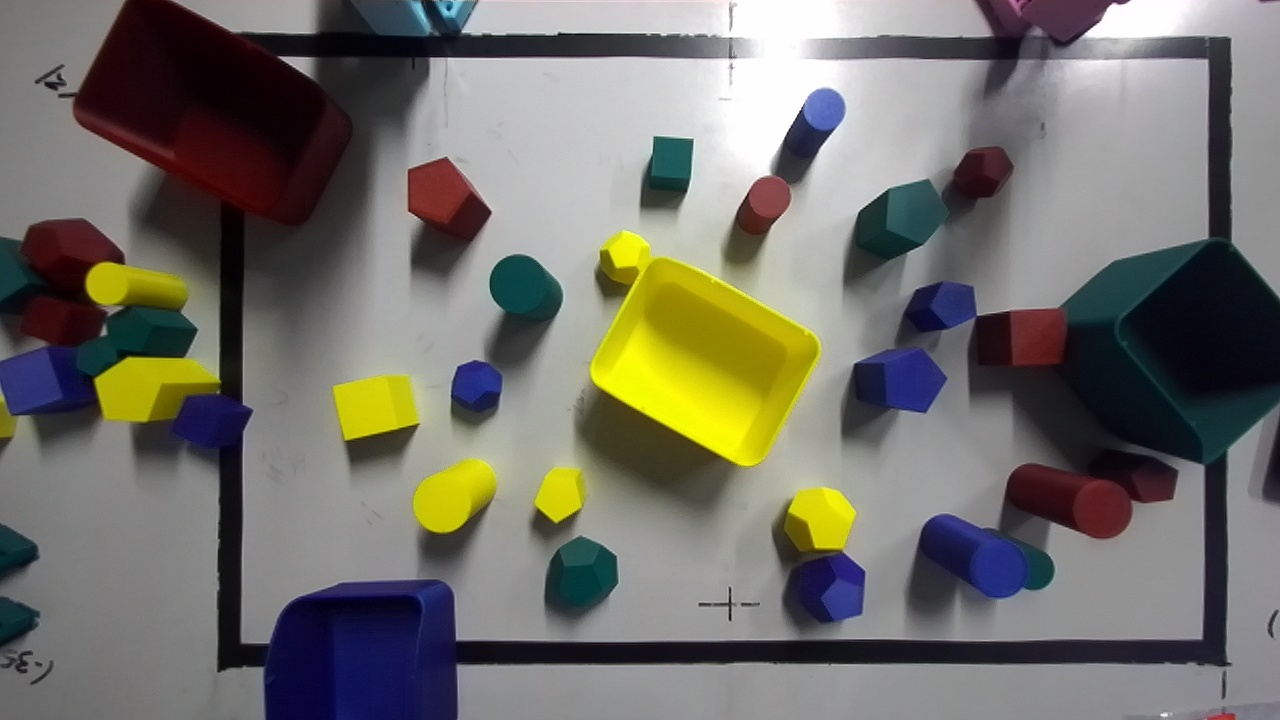bin: (73, 0, 350, 223), (1063, 238, 1279, 464), (590, 257, 819, 465), (263, 579, 456, 719)
cube: (332, 375, 418, 440), (975, 308, 1066, 365), (648, 136, 693, 191)
cylinder: (1006, 463, 1132, 538), (920, 514, 1026, 597), (412, 459, 496, 533), (490, 254, 562, 320), (786, 87, 845, 157), (735, 176, 790, 234), (1015, 541, 1054, 590)
dodecahedron: (545, 536, 617, 609), (791, 552, 864, 622), (784, 487, 855, 551), (954, 146, 1013, 198), (599, 231, 650, 285), (451, 361, 502, 411)
hexagonal: (854, 179, 948, 258), (407, 157, 491, 240), (852, 348, 946, 412), (1087, 449, 1177, 502), (904, 281, 975, 331), (534, 467, 585, 522)
